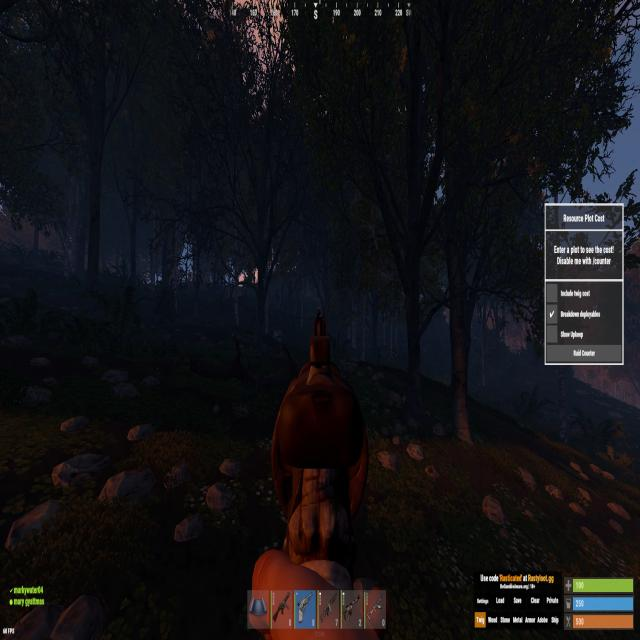Player: (316, 305, 327, 335)
